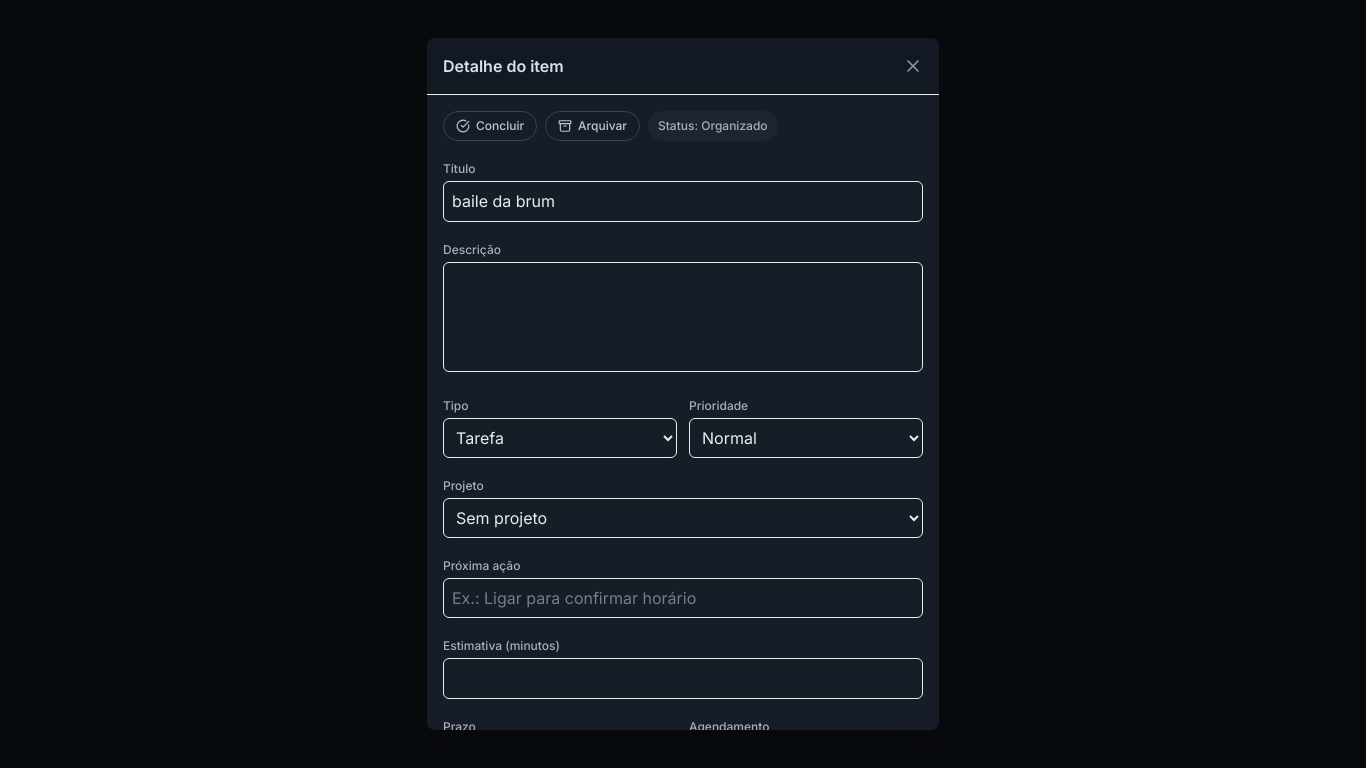
Test case: ItemDetailModal › conclui a tarefa
Expected: the field labelled "Título" is shown, [443, 181, 923, 222]
Click the button "Concluir" at (490, 126), box [443, 111, 537, 141]
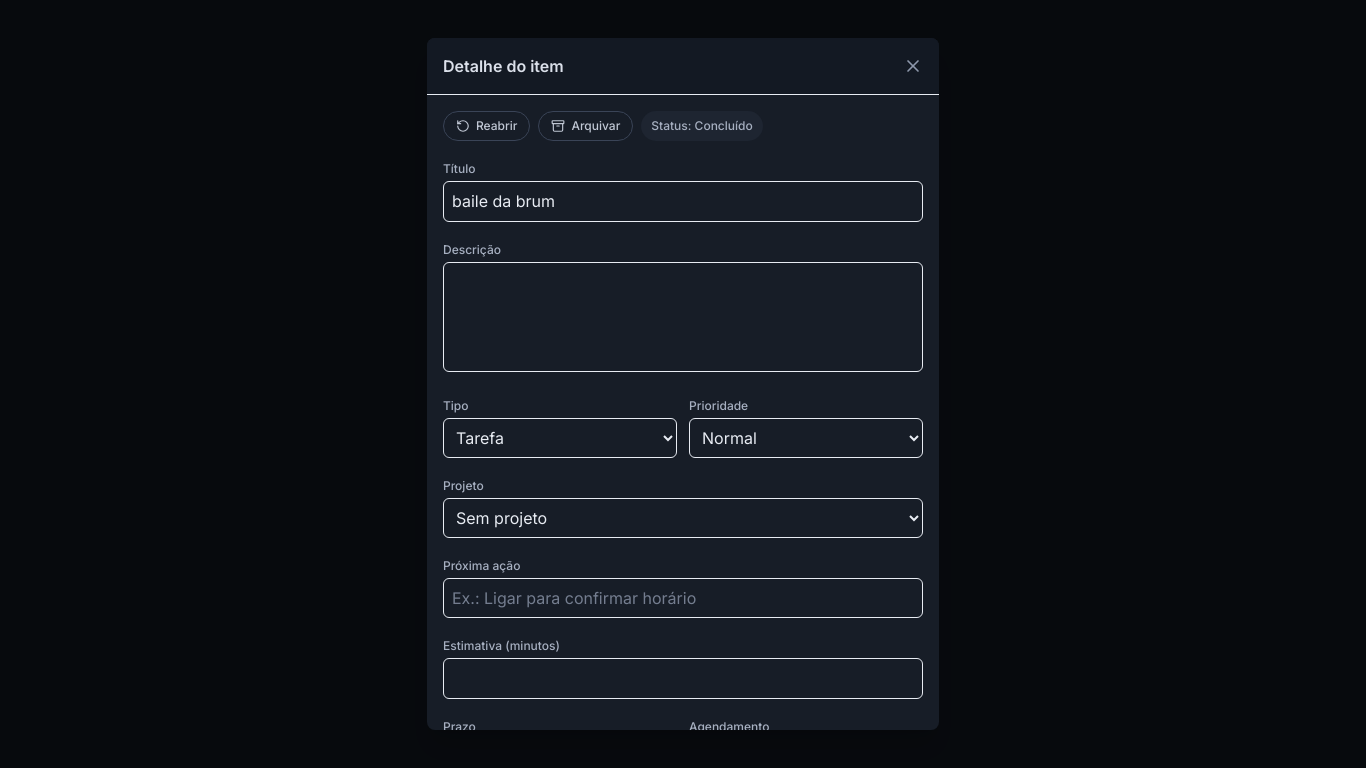
Expected: the text "Status: Concluído" is shown, [641, 111, 763, 141]
